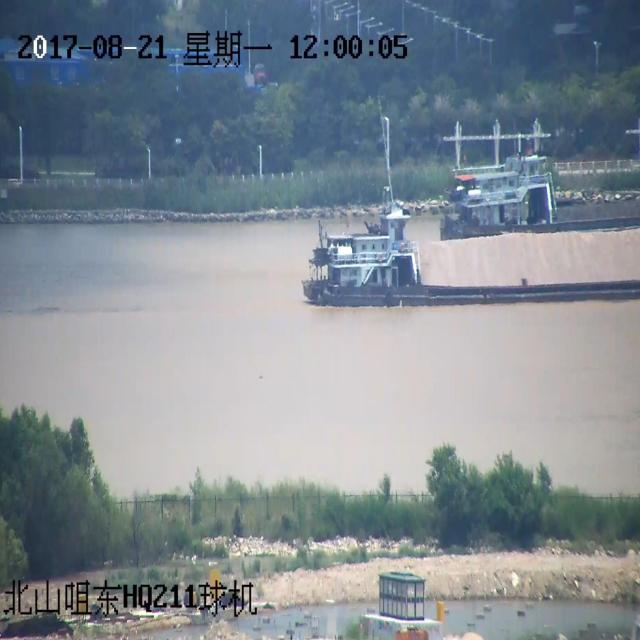cargoship: (323, 169, 640, 317), (429, 132, 640, 230)
